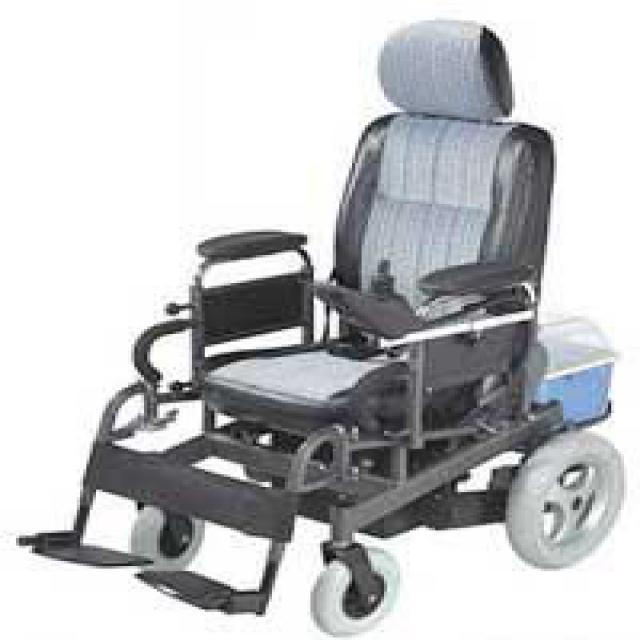wheelchairs: (21, 19, 624, 636)
